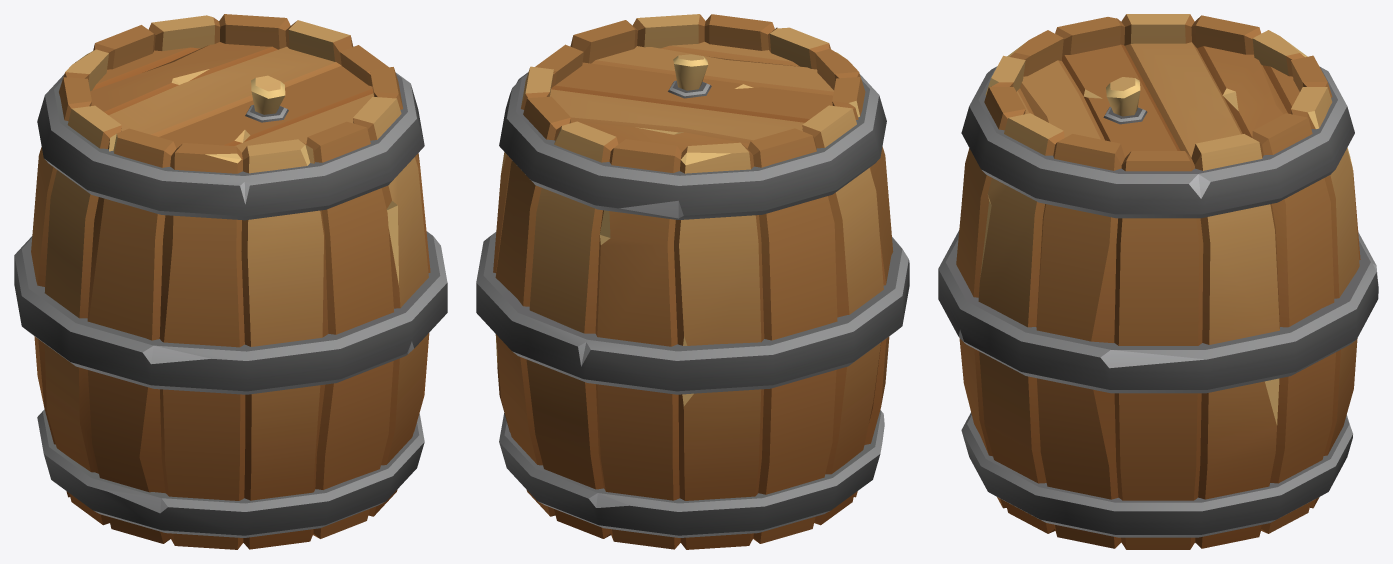
Rendered from Barrel_1_C.glb.
3 renders of one model, left to right at view 1: azimuth 30°, elevation 25°; view 2: azimuth 150°, elevation 25°; view 3: azimuth 270°, elevation 25°, orthographic.
Visible parts, largest first — view 1: Barrel_1_C; view 2: Barrel_1_C; view 3: Barrel_1_C.
Part boxes in pixels (x1,y1,x2,y2): Barrel_1_C: (14, 14, 447, 549); Barrel_1_C: (476, 14, 909, 549); Barrel_1_C: (938, 14, 1378, 549).
Bounding box in the file's own units: 0.8643 × 0.9066 × 0.887.
Materials: 2 (2 with a texture image).
